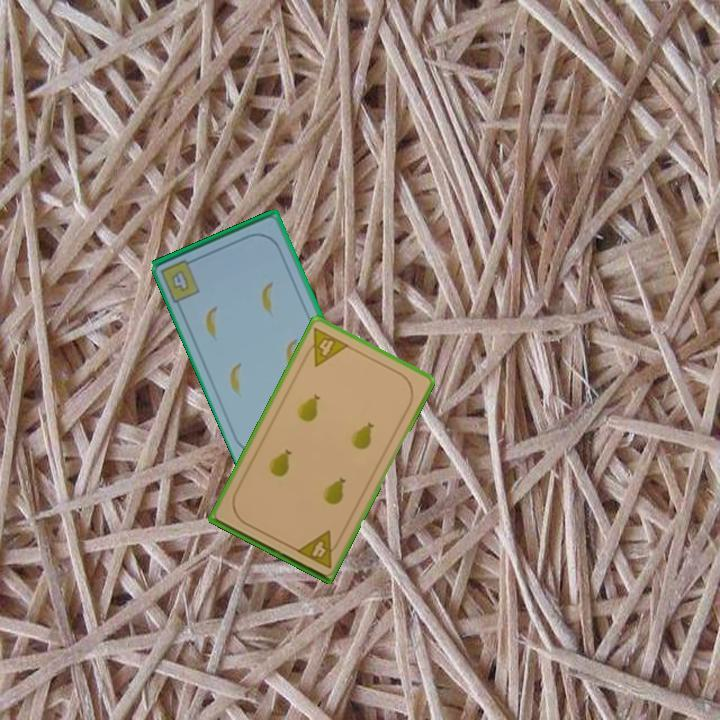4b: (157, 255, 203, 305)
4p: (299, 324, 352, 369), (292, 527, 344, 571)
